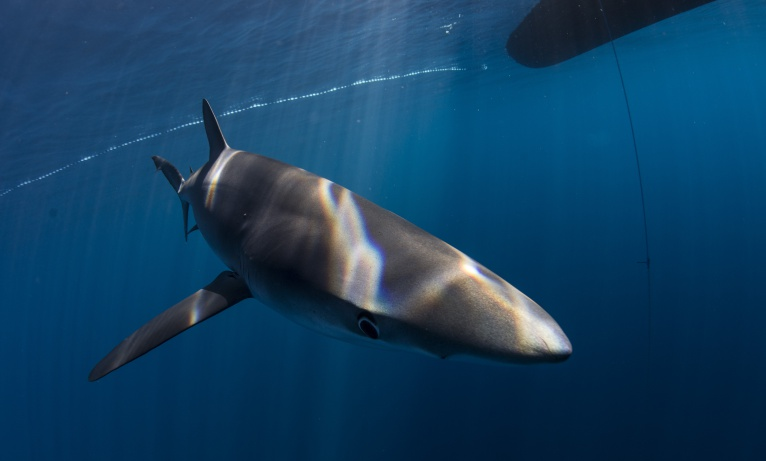Azul: (80, 86, 577, 393)
